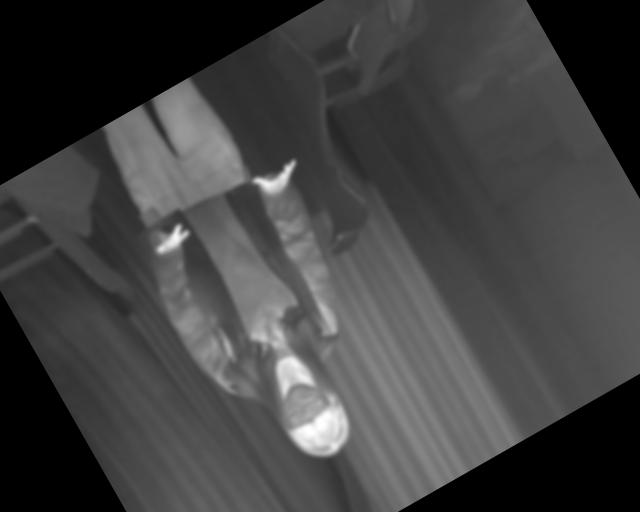face: (267, 367, 362, 468)
